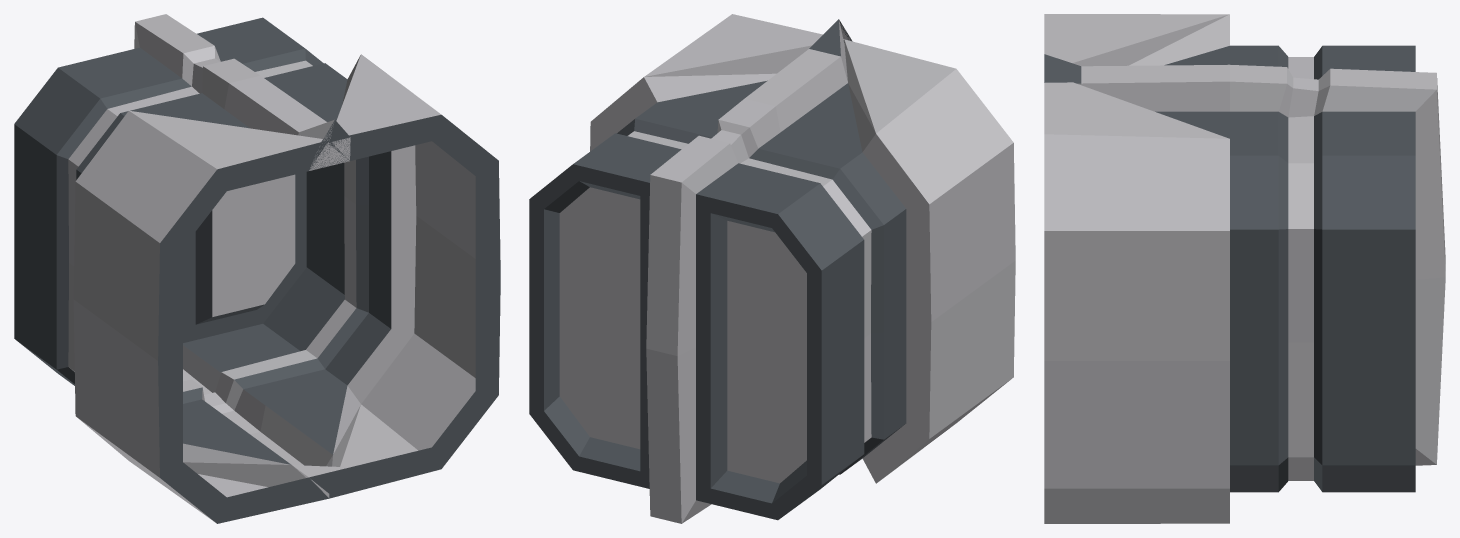
File: Mothership_02_Junction.fbx
3 views of the same model, side by side, from view 1: azimuth 30°, elevation 25°; view 2: azimuth 150°, elevation 25°; view 3: azimuth 270°, elevation 25° (orthographic). The views are drawn at different scales.
Visible parts, largest first — view 1: Mothership_02_Junction; view 2: Mothership_02_Junction; view 3: Mothership_02_Junction.
Boxes of the visible parts, <box> form: Mothership_02_Junction: <box>14,14,500,523</box>; Mothership_02_Junction: <box>529,14,1015,523</box>; Mothership_02_Junction: <box>1044,14,1445,523</box>.
Bounding box in the file's own units: 508 × 546 × 469.
Materials: 1 (1 with a texture image).
